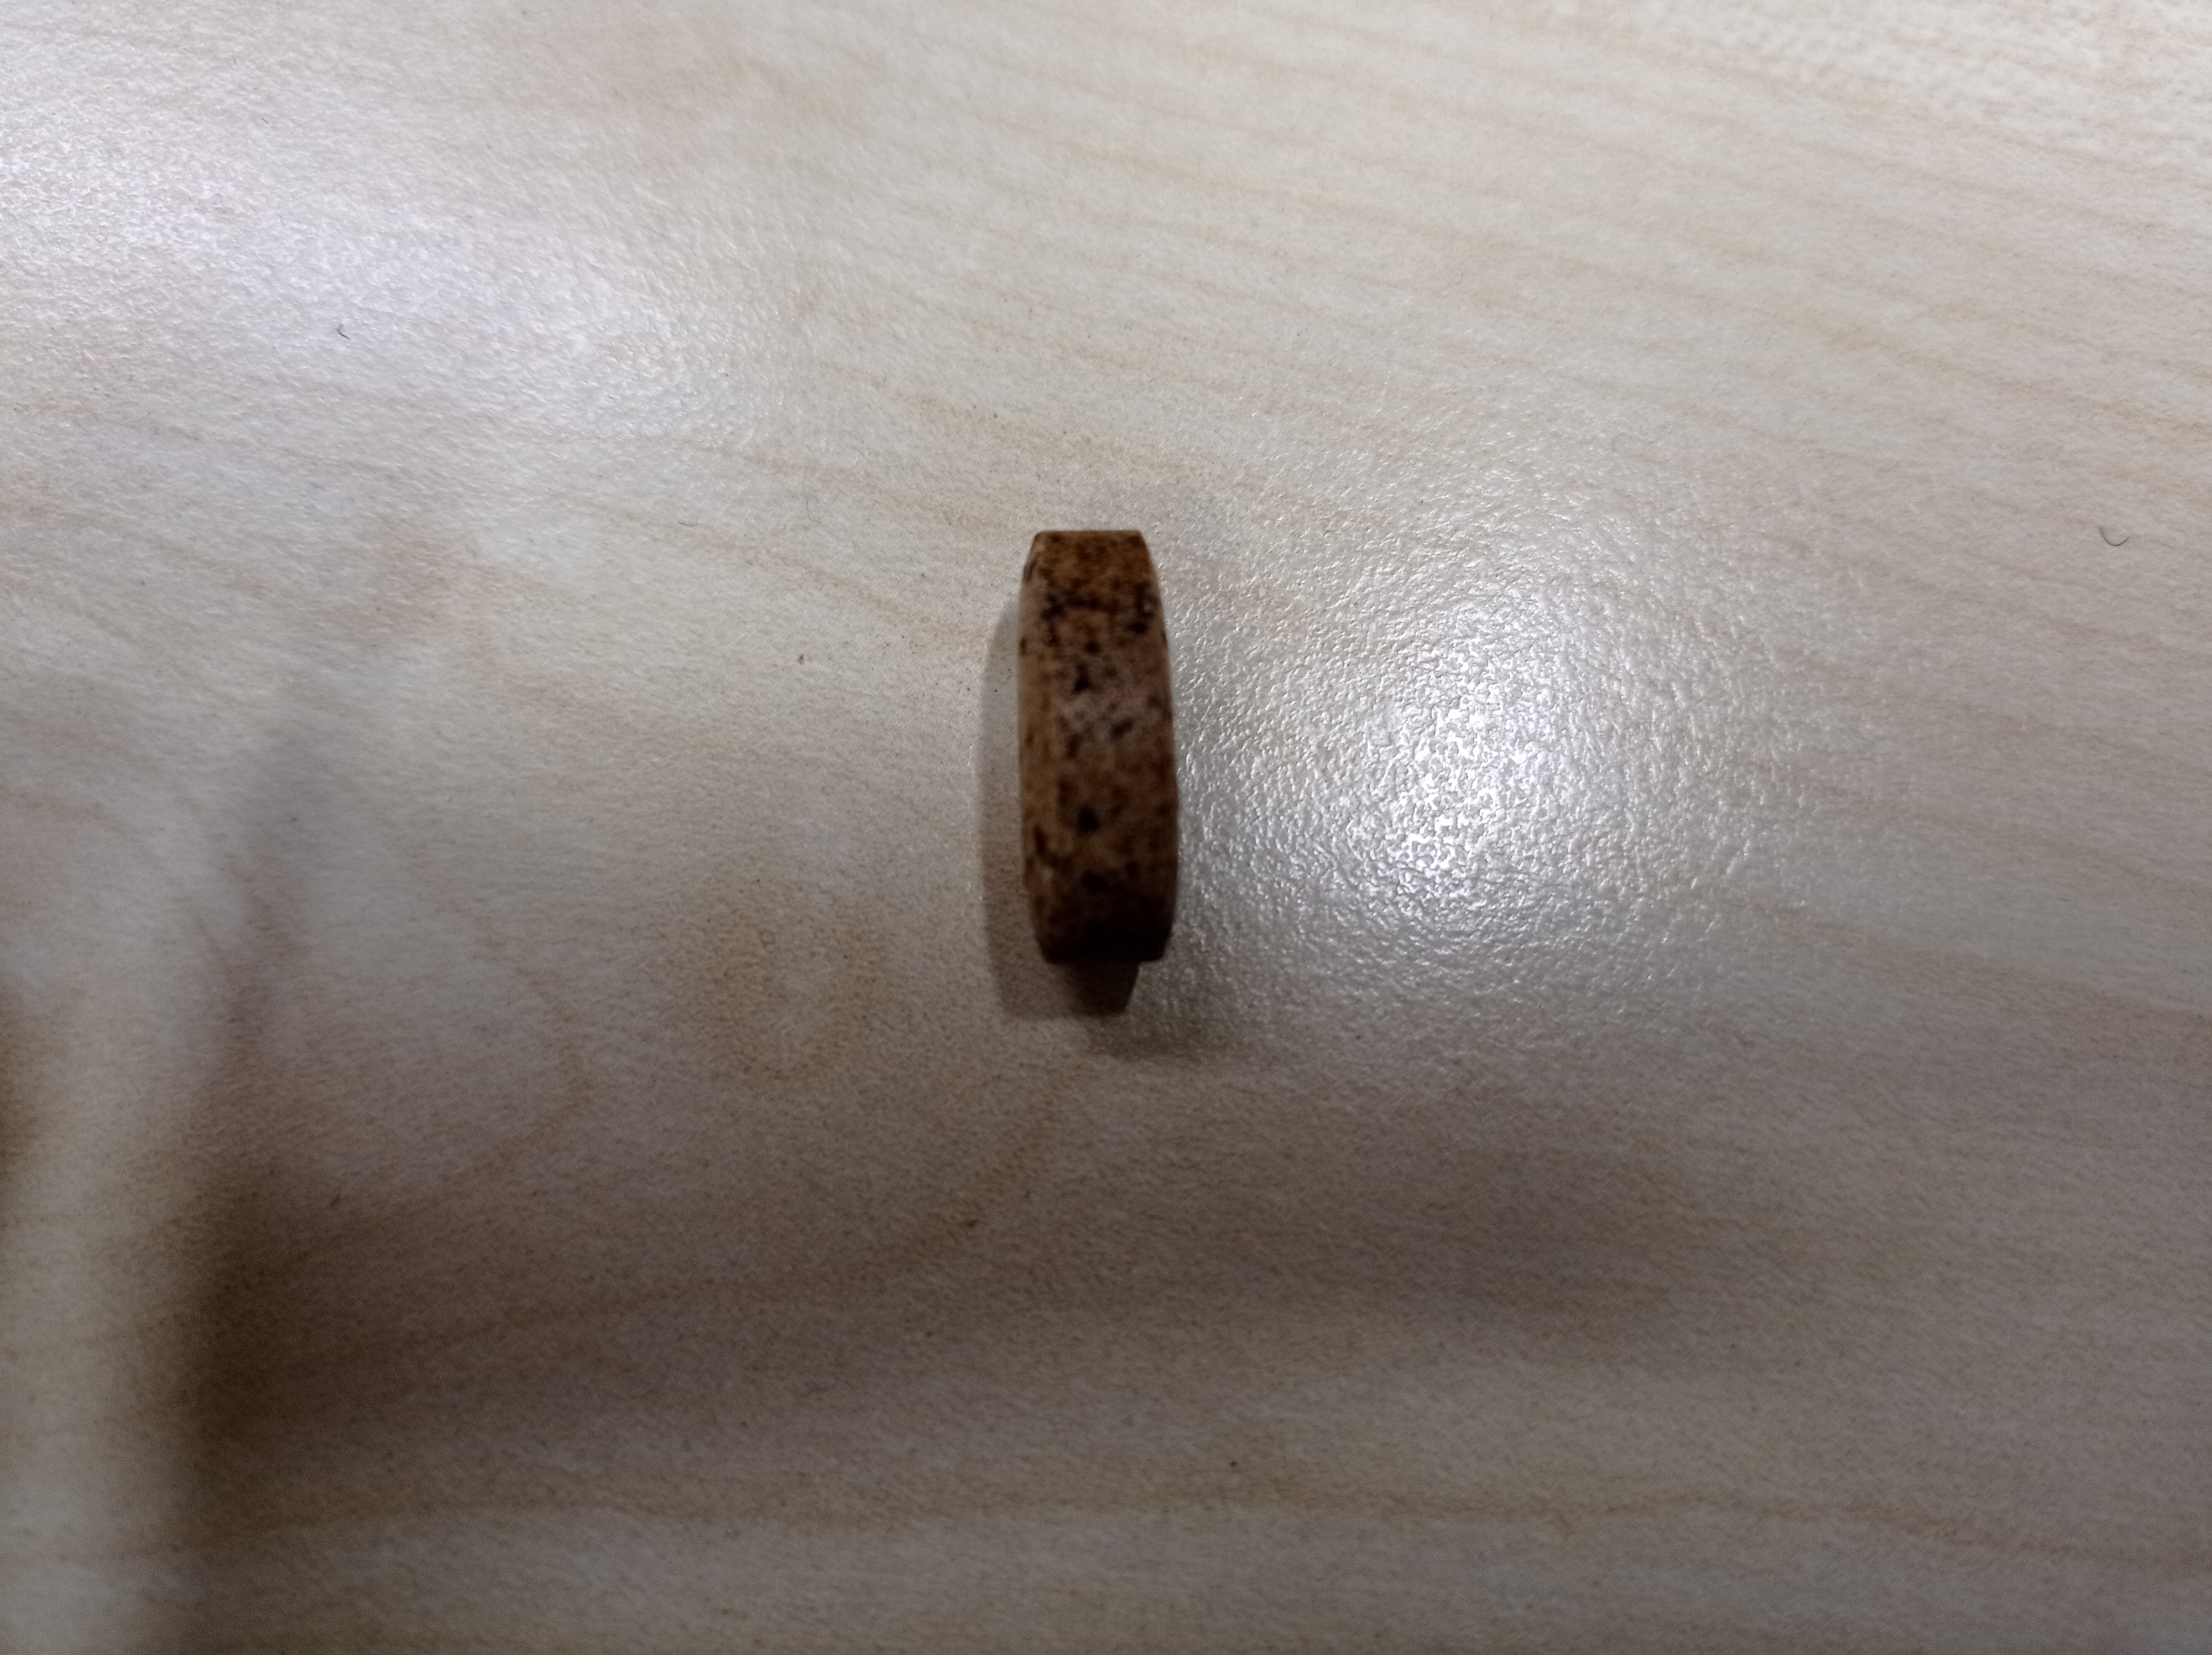brown_medicine: (1017, 530, 1178, 963)
